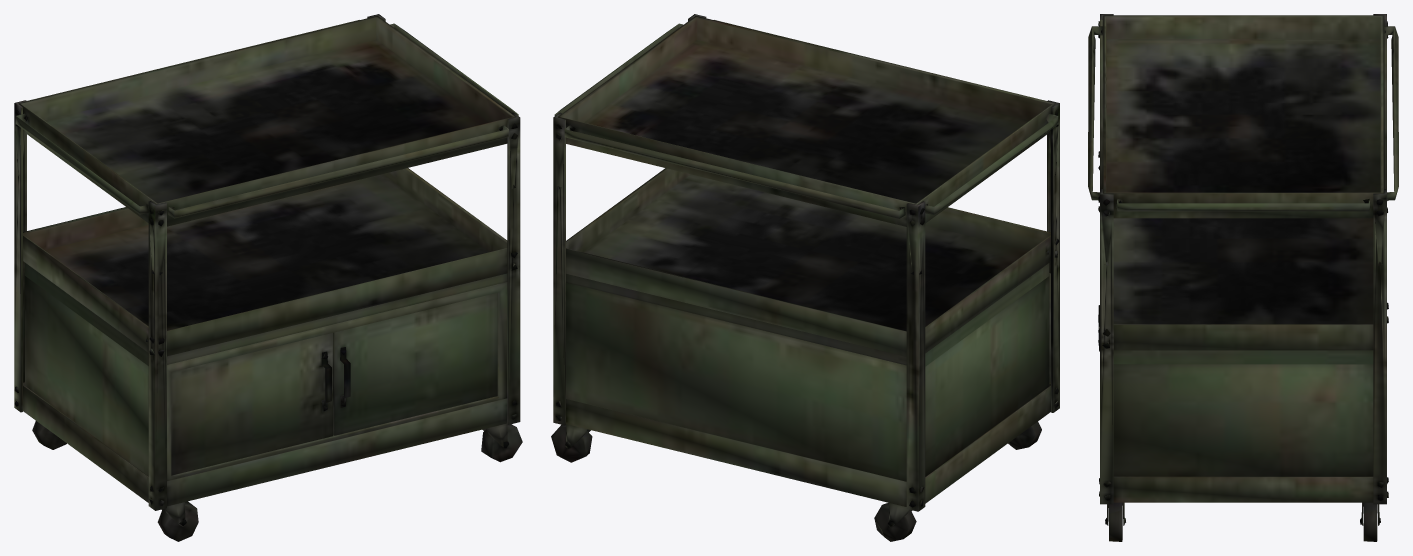
Rendered from cart.glb.
3 views of the same model, side by side, from view 1: azimuth 30°, elevation 25°; view 2: azimuth 150°, elevation 25°; view 3: azimuth 270°, elevation 25° (orthographic).
Parts seen in each view (by area): view 1: lo; view 2: lo; view 3: lo.
Part boxes in pixels (x1=…): lo: x1=14, y1=14, x2=522, y2=541; lo: x1=551, y1=14, x2=1059, y2=541; lo: x1=1088, y1=14, x2=1398, y2=541.
Size of the model in its own units: 1.61 by 1.38 by 1.1.
Materials: 1 (1 with a texture image).
